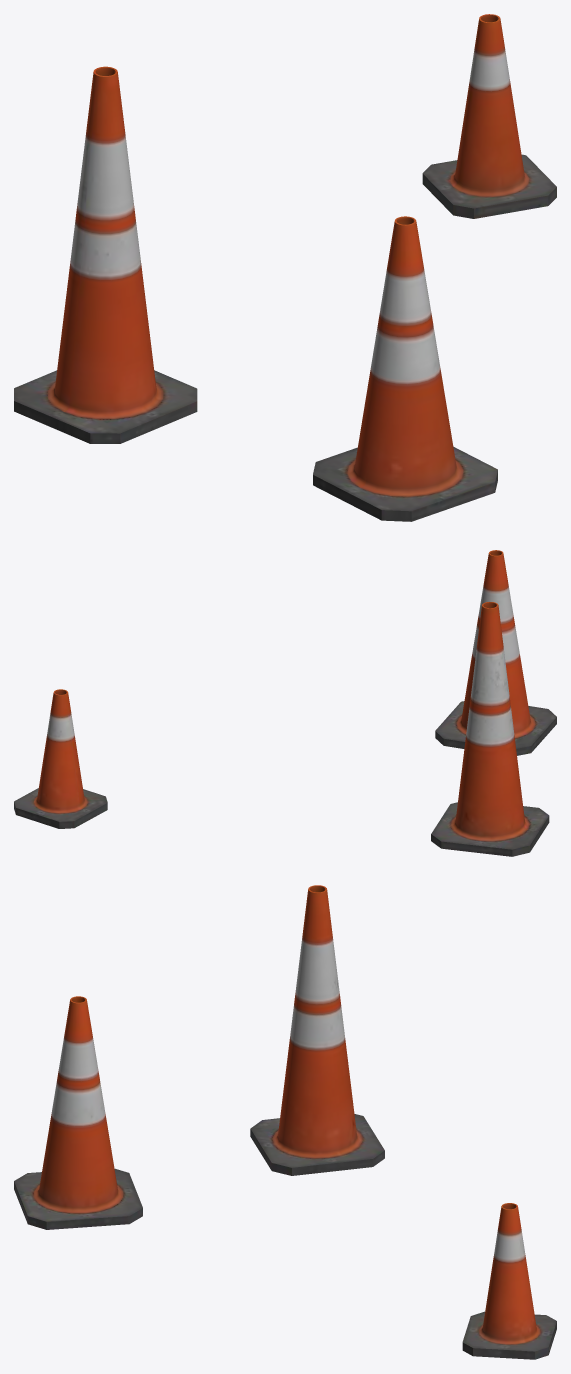
The model's file is cones.glb.
3 renders of one model, top to bottom at view 1: azimuth 30°, elevation 25°; view 2: azimuth 150°, elevation 25°; view 3: azimuth 270°, elevation 25°, orthographic. The views are drawn at different scales.
Visible parts, largest first — view 1: Traffic_Cone_1_1.001_Cones_Mat_0; view 2: Traffic_Cone_1_1.001_Cones_Mat_0; view 3: Traffic_Cone_1_1.001_Cones_Mat_0.
Boxes of the visible parts, x1,y1,x2,y2 form: Traffic_Cone_1_1.001_Cones_Mat_0: (14,14,556,521); Traffic_Cone_1_1.001_Cones_Mat_0: (14,550,556,856); Traffic_Cone_1_1.001_Cones_Mat_0: (14,885,556,1359).
Bounding box in the file's own units: 1.5 × 0.7499 × 1.43.
Materials: 1 (1 with a texture image).
